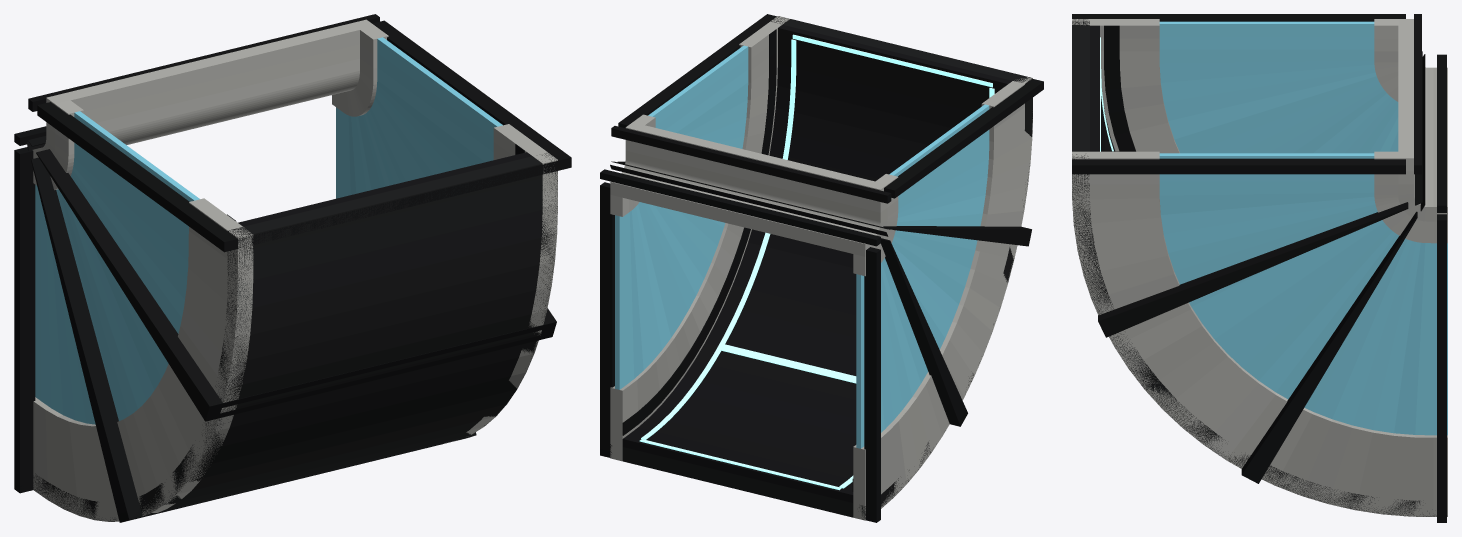
Rendered from chute_adv_v_turn.glb.
3 views of the same model, side by side, from view 1: azimuth 30°, elevation 25°; view 2: azimuth 150°, elevation 25°; view 3: azimuth 270°, elevation 25° (orthographic). The views are drawn at different scales.
Visible parts, largest first — view 1: Frame; view 2: Frame, Power; view 3: Frame.
Boxes of the visible parts, left/top/right/bottom form: Frame: left=14, top=14, right=571, bottom=522; Frame: left=600, top=14, right=1043, bottom=522; Power: left=639, top=34, right=994, bottom=490; Frame: left=1072, top=14, right=1447, bottom=522.
Bounding box in the file's own units: 1.8 × 1.99 × 1.89.
